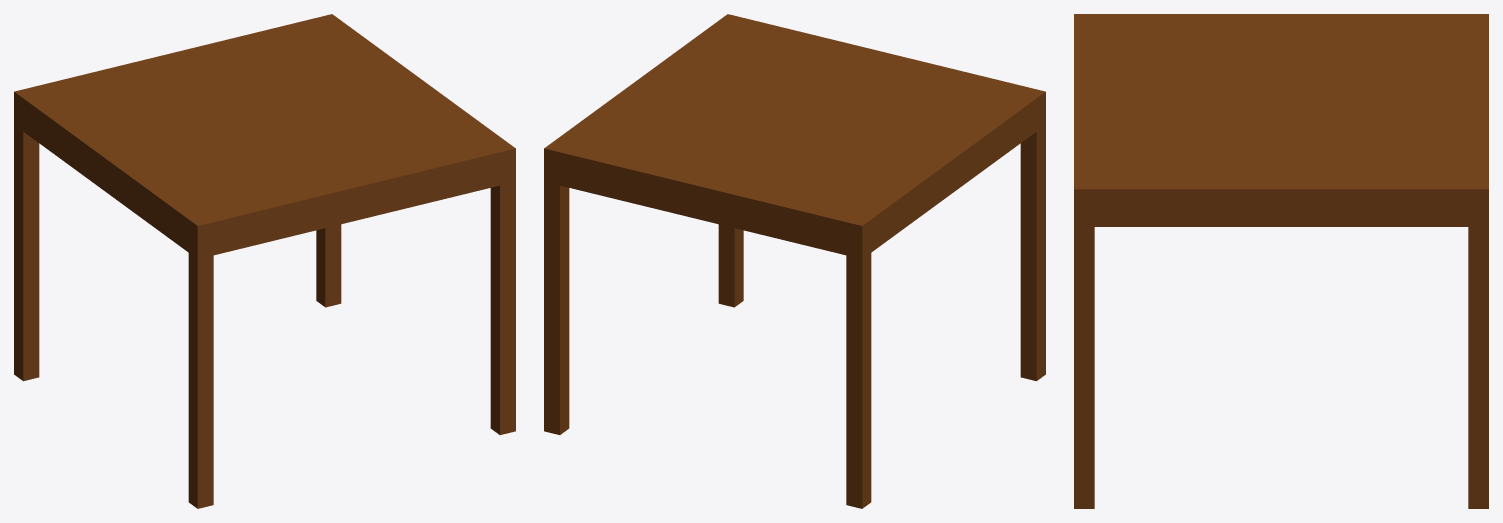
File: table.obj
3 renders of one model, left to right at view 1: azimuth 30°, elevation 25°; view 2: azimuth 150°, elevation 25°; view 3: azimuth 270°, elevation 25°, orthographic. The views are drawn at different scales.
Parts seen in each view (by area): view 1: table; view 2: table; view 3: table.
Boxes of the visible parts, left/top/right/bottom form: table: left=14, top=14, right=515, bottom=508; table: left=544, top=14, right=1045, bottom=508; table: left=1074, top=14, right=1488, bottom=508.
Bounding box in the file's own units: 20 × 17 × 20.
1 material, 1 textured.
